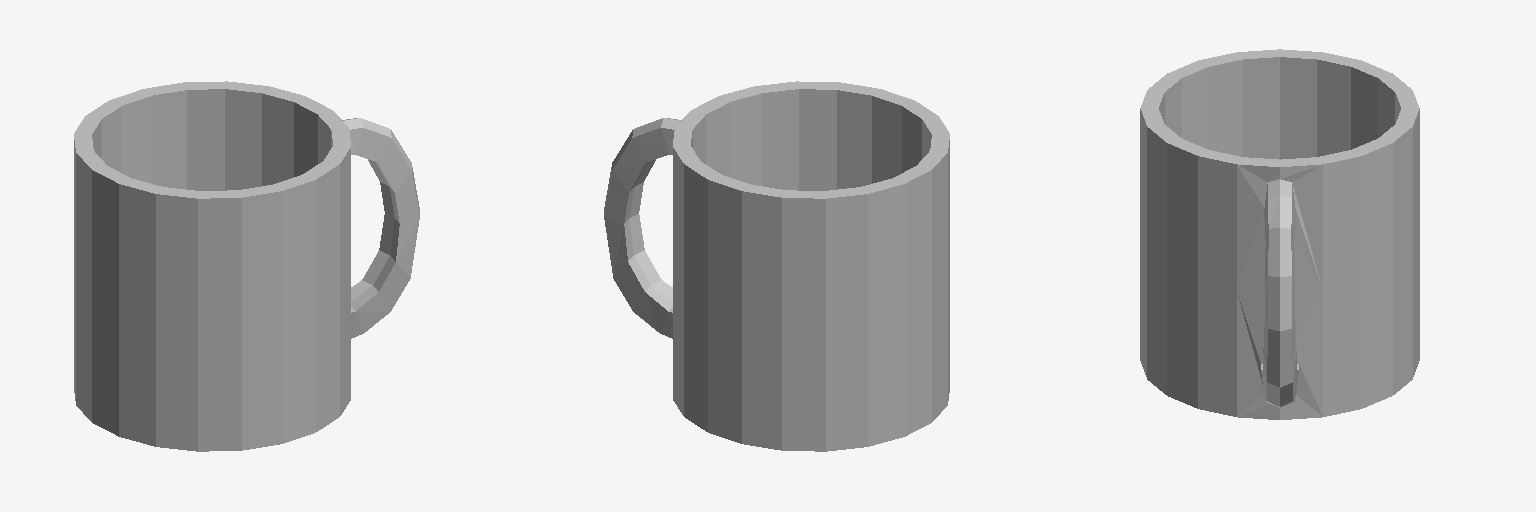
The model's file is Low_Poly_Mug.obj.
3 renders of one model, left to right at view 1: azimuth 30°, elevation 25°; view 2: azimuth 150°, elevation 25°; view 3: azimuth 270°, elevation 25°, orthographic.
Visible parts, largest first — view 1: Low_Poly_Mug; view 2: Low_Poly_Mug; view 3: Low_Poly_Mug.
Part boxes in pixels (x1,y1,x2,y2): Low_Poly_Mug: (74,81,419,451); Low_Poly_Mug: (604,81,949,451); Low_Poly_Mug: (1140,49,1419,419).
Size of the model in its own units: 1.67 by 1.23 by 1.23.